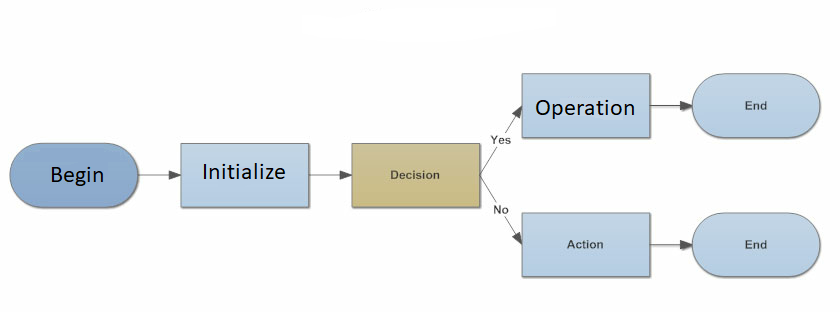arrow: (481, 170, 522, 248), (482, 103, 522, 169), (651, 239, 693, 252), (136, 169, 180, 181), (651, 101, 693, 113), (311, 170, 351, 180)
process: (350, 140, 482, 211), (178, 141, 311, 210), (520, 71, 652, 140), (521, 211, 653, 280)
terminator: (9, 141, 141, 210), (692, 211, 822, 279), (693, 72, 821, 139)
text: (533, 98, 637, 122), (199, 159, 285, 185), (48, 164, 104, 190), (388, 167, 441, 182), (565, 238, 605, 252), (488, 132, 513, 148), (741, 98, 768, 112), (742, 238, 767, 251), (490, 204, 509, 216)
